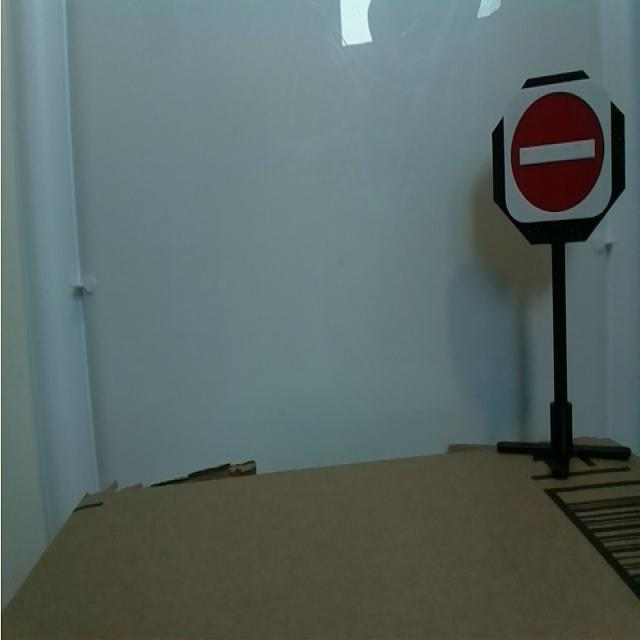sign_noentry: (495, 84, 616, 225)
